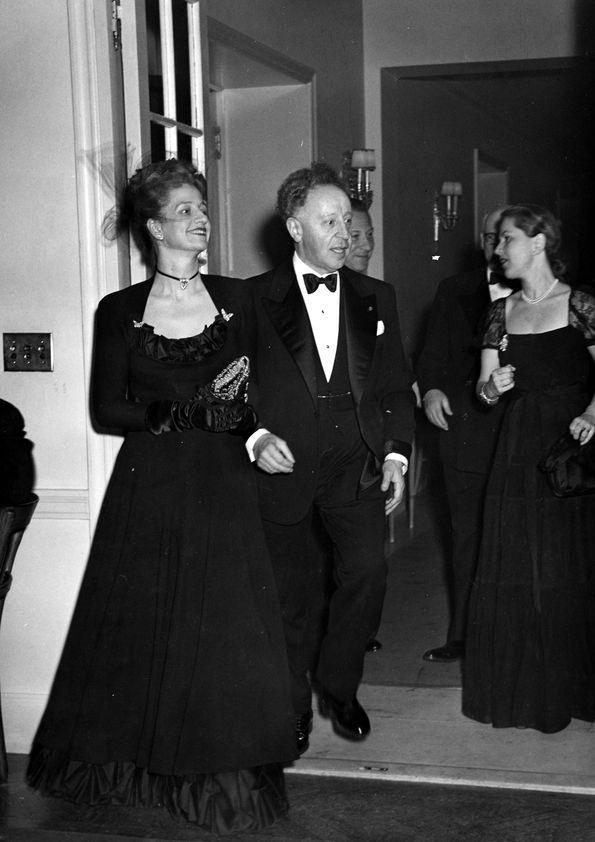person: (232, 93, 429, 449), (79, 141, 265, 441), (434, 186, 595, 466)
